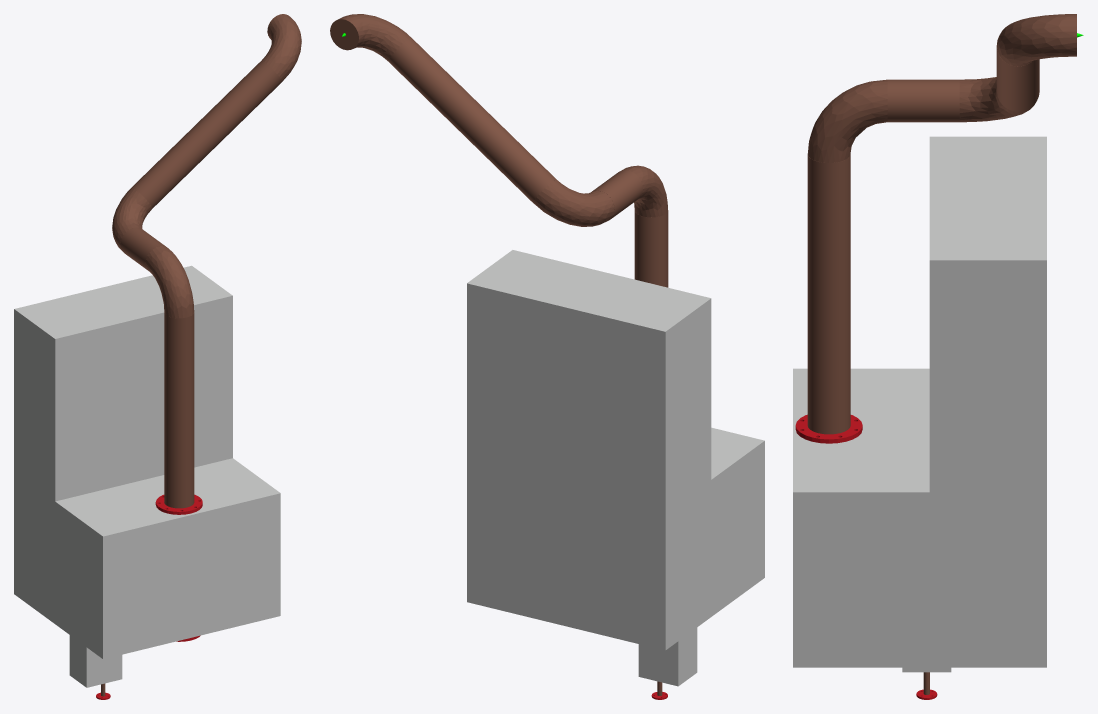
Rendered from Phase44c.fbx.
3 renders of one model, left to right at view 1: azimuth 30°, elevation 25°; view 2: azimuth 150°, elevation 25°; view 3: azimuth 270°, elevation 25°, orthographic. The views are drawn at different scales.
Parts seen in each view (by area): view 1: Корпус, Типы трубопроводов:CPS_Бесшовная труба из нс:1278402 (×3), Отвод:Исполнение 2 — 108:1288124, Отвод:Исполнение 2 — 108:1288386, Отвод:Исполнение 2 — 108:1287921, Сталь нержавеющая Фланец; view 2: Корпус, Типы трубопроводов:CPS_Бесшовная труба из нс:1278402 (×3), Отвод:Исполнение 2 — 108:1287921, Отвод:Исполнение 2 — 108:1288386, Отвод:Исполнение 2 — 108:1288124; view 3: Корпус, Типы трубопроводов:CPS_Бесшовная труба из нс:1278402 (×3), Отвод:Исполнение 2 — 108:1288124, Отвод:Исполнение 2 — 108:1288386, Отвод:Исполнение 2 — 108:1287921, Сталь нержавеющая Фланец.
Part boxes in pixels (x1,y1,x2,y2): Корпус: [14, 265, 280, 687]; Типы трубопроводов:CPS_Бесшовная труба из нс:1278402 (×3): [120, 60, 282, 508]; Отвод:Исполнение 2 — 108:1288124: [146, 246, 194, 318]; Отвод:Исполнение 2 — 108:1288386: [262, 14, 301, 81]; Отвод:Исполнение 2 — 108:1287921: [112, 187, 152, 250]; Сталь нержавеющая Фланец: [155, 494, 202, 514]; Корпус: [467, 250, 764, 686]; Типы трубопроводов:CPS_Бесшовная труба из нс:1278402 (×3): [388, 37, 668, 287]; Отвод:Исполнение 2 — 108:1287921: [533, 179, 614, 226]; Отвод:Исполнение 2 — 108:1288386: [330, 14, 410, 60]; Отвод:Исполнение 2 — 108:1288124: [622, 165, 667, 217]; Корпус: [793, 136, 1046, 672]; Типы трубопроводов:CPS_Бесшовная труба из нс:1278402 (×3): [807, 40, 1039, 434]; Отвод:Исполнение 2 — 108:1288124: [807, 79, 887, 162]; Отвод:Исполнение 2 — 108:1288386: [997, 14, 1076, 66]; Отвод:Исполнение 2 — 108:1287921: [959, 77, 1035, 122]; Сталь нержавеющая Фланец: [795, 414, 862, 443].
Bounding box in the file's own units: 2444 × 1490 × 4744.
